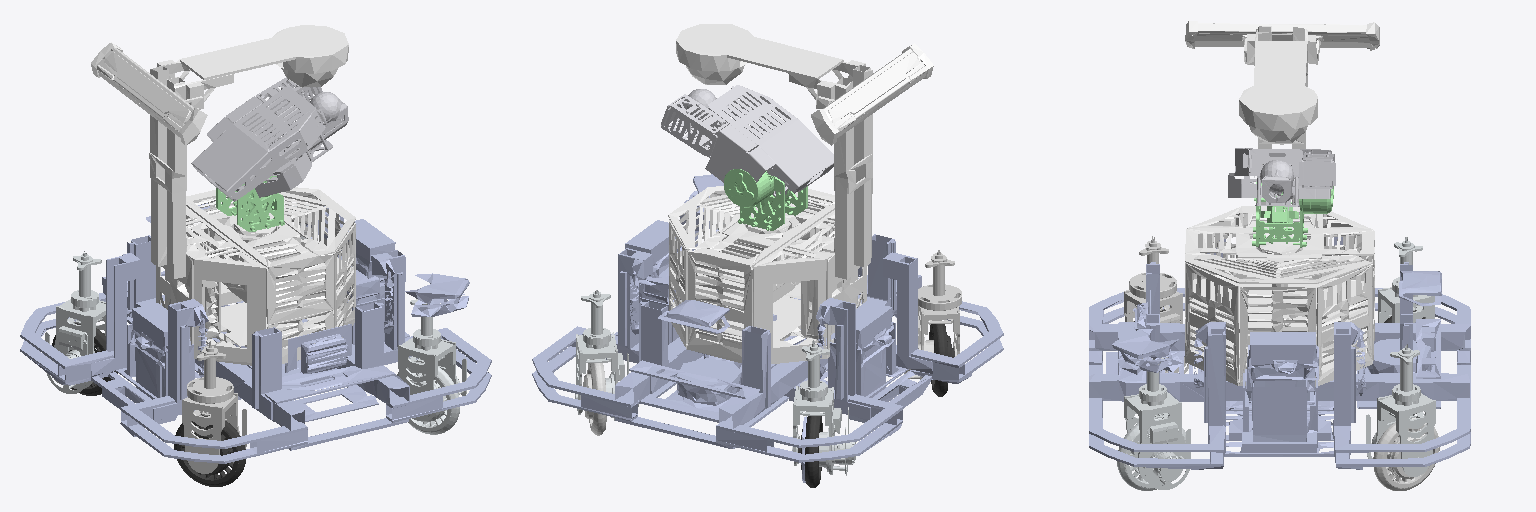
URDF robot description (robot):
<?xml version="1.0"?>
<robot name="robot">
  <link name="base_footprint">
    <inertial>
      <origin xyz="0.03075109 0.00556219 0.14059623" rpy="0 0 0"/>
      <mass value="7.45292673"/>
      <inertia ixx="0.13155106" ixy="0.00914621" ixz="-0.01048016" iyy="0.17594473" iyz="0.00575591" izz="0.26547165"/>
    </inertial>
    <visual>
      <origin xyz="0 0 0" rpy="0 0 0"/>
      <geometry><mesh filename="package://sentry_description/meshes/base_collision.stl"/></geometry>
      <material name="base_color"><color rgba="0.79215686 0.81960784 0.93333333 1"/></material>
    </visual>
    <collision>
      <origin xyz="0 0 0" rpy="0 0 0"/>
      <geometry><mesh filename="package://sentry_description/meshes/base_collision.stl"/></geometry>
    </collision>
  </link>
  <link name="link1_wheel1_drive">
    <inertial>
      <origin xyz="-0.00182111 -0.00089281 0" rpy="0 0 0"/>
      <mass value="0.27419236"/>
      <inertia ixx="0.00037552" ixy="0.00007465" ixz="0" iyy="0.00025985" iyz="0" izz="0.00022326"/>
    </inertial>
    <visual>
      <origin xyz="0 0 0" rpy="0 0 0"/>
      <geometry><mesh filename="package://sentry_description/meshes/link1_wheel1_drive_collision.stl"/></geometry>
      <material name="link1_wheel1_drive_color"><color rgba="0.29803922 0.29803922 0.29803922 1"/></material>
    </visual>
    <collision>
      <origin xyz="0 0 0" rpy="0 0 0"/>
      <geometry><mesh filename="package://sentry_description/meshes/link1_wheel1_drive_collision.stl"/></geometry>
    </collision>
  </link>
  <link name="link2_wheel1_steer">
    <inertial>
      <origin xyz="-0.01352273 -0.00661537 -0.1313528" rpy="0 0 0"/>
      <mass value="0.75988345"/>
      <inertia ixx="0.00180659" ixy="-0.00009999" ixz="-0.00027942" iyy="0.00196233" iyz="-0.00013641" izz="0.00054709"/>
    </inertial>
    <visual>
      <origin xyz="0 0 0" rpy="0 0 0"/>
      <geometry><mesh filename="package://sentry_description/meshes/link2_wheel1_steer_collision.stl"/></geometry>
      <material name="link2_wheel1_steer_color"><color rgba="0.89803922 0.91764706 0.92941176 1"/></material>
    </visual>
    <collision>
      <origin xyz="0 0 0" rpy="0 0 0"/>
      <geometry><mesh filename="package://sentry_description/meshes/link2_wheel1_steer_collision.stl"/></geometry>
    </collision>
  </link>
  <link name="link3_wheel2_drive">
    <inertial>
      <origin xyz="0.00133441 0.00094612 0" rpy="0 0 0"/>
      <mass value="0.27419236"/>
      <inertia ixx="0.00034893" ixy="0.00008911" ixz="0" iyy="0.00028643" iyz="0" izz="0.00022326"/>
    </inertial>
    <visual>
      <origin xyz="0 0 0" rpy="0 0 0"/>
      <geometry><mesh filename="package://sentry_description/meshes/link3_wheel2_drive_collision.stl"/></geometry>
      <material name="link3_wheel2_drive_color"><color rgba="0.89803922 0.89803922 0.89803922 1"/></material>
    </visual>
    <collision>
      <origin xyz="0 0 0" rpy="0 0 0"/>
      <geometry><mesh filename="package://sentry_description/meshes/link3_wheel2_drive_collision.stl"/></geometry>
    </collision>
  </link>
  <link name="link4_wheel2_steer">
    <inertial>
      <origin xyz="-0.01228793 -0.0086967 -0.1313528" rpy="0 0 0"/>
      <mass value="0.75988345"/>
      <inertia ixx="0.00184221" ixy="-0.00011948" ixz="-0.00025396" iyy="0.00192671" iyz="-0.00017942" izz="0.00054709"/>
    </inertial>
    <visual>
      <origin xyz="0 0 0" rpy="0 0 0"/>
      <geometry><mesh filename="package://sentry_description/meshes/link4_wheel2_steer_collision.stl"/></geometry>
      <material name="link4_wheel2_steer_color"><color rgba="0.89803922 0.91764706 0.92941176 1"/></material>
    </visual>
    <collision>
      <origin xyz="0 0 0" rpy="0 0 0"/>
      <geometry><mesh filename="package://sentry_description/meshes/link4_wheel2_steer_collision.stl"/></geometry>
    </collision>
  </link>
  <link name="link5_wheel3_drive">
    <inertial>
      <origin xyz="-0.00383859 -0.0018819 0" rpy="0 0 0"/>
      <mass value="0.27419236"/>
      <inertia ixx="0.00037552" ixy="0.00007465" ixz="0" iyy="0.00025985" iyz="0" izz="0.00022326"/>
    </inertial>
    <visual>
      <origin xyz="0 0 0" rpy="0 0 0"/>
      <geometry><mesh filename="package://sentry_description/meshes/link5_wheel3_drive_collision.stl"/></geometry>
      <material name="link5_wheel3_drive_color"><color rgba="0.89803922 0.91764706 0.92941176 1"/></material>
    </visual>
    <collision>
      <origin xyz="0 0 0" rpy="0 0 0"/>
      <geometry><mesh filename="package://sentry_description/meshes/link5_wheel3_drive_collision.stl"/></geometry>
    </collision>
  </link>
  <link name="link6_wheel3_steer">
    <inertial>
      <origin xyz="0.01352273 0.00661537 -0.1313528" rpy="0 0 0"/>
      <mass value="0.75988345"/>
      <inertia ixx="0.00180659" ixy="-0.00009999" ixz="0.00027942" iyy="0.00196233" iyz="0.00013641" izz="0.00054709"/>
    </inertial>
    <visual>
      <origin xyz="0 0 0" rpy="0 0 0"/>
      <geometry><mesh filename="package://sentry_description/meshes/link6_wheel3_steer_collision.stl"/></geometry>
      <material name="link6_wheel3_steer_color"><color rgba="0.89803922 0.91764706 0.92941176 1"/></material>
    </visual>
    <collision>
      <origin xyz="0 0 0" rpy="0 0 0"/>
      <geometry><mesh filename="package://sentry_description/meshes/link6_wheel3_steer_collision.stl"/></geometry>
    </collision>
  </link>
  <link name="link7_wheel4_drive">
    <inertial>
      <origin xyz="0.00165452 0.00117308 0" rpy="0 0 0"/>
      <mass value="0.27419236"/>
      <inertia ixx="0.00034893" ixy="0.00008911" ixz="0" iyy="0.00028643" iyz="0" izz="0.00022326"/>
    </inertial>
    <visual>
      <origin xyz="0 0 0" rpy="0 0 0"/>
      <geometry><mesh filename="package://sentry_description/meshes/link7_wheel4_drive_collision.stl"/></geometry>
      <material name="link7_wheel4_drive_color"><color rgba="0.29803922 0.29803922 0.29803922 1"/></material>
    </visual>
    <collision>
      <origin xyz="0 0 0" rpy="0 0 0"/>
      <geometry><mesh filename="package://sentry_description/meshes/link7_wheel4_drive_collision.stl"/></geometry>
    </collision>
  </link>
  <link name="link8_wheel4_steer">
    <inertial>
      <origin xyz="0.0102248 0.00684194 -0.11872898" rpy="0 0 0"/>
      <mass value="0.93432451"/>
      <inertia ixx="0.00257831" ixy="-0.00013962" ixz="0.00036" iyy="0.00266613" iyz="0.00027468" izz="0.00072136"/>
    </inertial>
    <visual>
      <origin xyz="0 0 0" rpy="0 0 0"/>
      <geometry><mesh filename="package://sentry_description/meshes/link8_wheel4_steer_collision.stl"/></geometry>
      <material name="link8_wheel4_steer_color"><color rgba="0.89803922 0.89803922 0.89803922 1"/></material>
    </visual>
    <collision>
      <origin xyz="0 0 0" rpy="0 0 0"/>
      <geometry><mesh filename="package://sentry_description/meshes/link8_wheel4_steer_collision.stl"/></geometry>
    </collision>
  </link>
  <link name="gimbal_yaw">
    <inertial>
      <origin xyz="-0.02412562 0.00053064 0.16576855" rpy="0 0 0"/>
      <mass value="4.59760545"/>
      <inertia ixx="0.12848086" ixy="0.00042571" ixz="0.0067269" iyy="0.14567939" iyz="0.00008758" izz="0.05853719"/>
    </inertial>
    <visual>
      <origin xyz="0 0 0" rpy="0 0 0"/>
      <geometry><mesh filename="package://sentry_description/meshes/gimbal_yaw_collision.stl"/></geometry>
      <material name="gimbal_yaw_color"><color rgba="1 1 1 1"/></material>
    </visual>
    <collision>
      <origin xyz="0 0 0" rpy="0 0 0"/>
      <geometry><mesh filename="package://sentry_description/meshes/gimbal_yaw_collision.stl"/></geometry>
    </collision>
  </link>
  <link name="link10_pitch">
    <inertial>
      <origin xyz="0.05119059 -0.03275115 0.04633006" rpy="0 0 0"/>
      <mass value="0.95164865"/>
      <inertia ixx="0.00235325" ixy="-0.00057263" ixz="-0.00121079" iyy="0.00359417" iyz="-0.0004005" izz="0.00407243"/>
    </inertial>
    <visual>
      <origin xyz="0 0 0" rpy="0 0 0"/>
      <geometry><mesh filename="package://sentry_description/meshes/link10_pitch_collision.stl"/></geometry>
      <material name="link10_pitch_color"><color rgba="0.86666667 0.86666667 0.89019608 1"/></material>
    </visual>
    <collision>
      <origin xyz="0 0 0" rpy="0 0 0"/>
      <geometry><mesh filename="package://sentry_description/meshes/link10_pitch_collision.stl"/></geometry>
    </collision>
  </link>
  <link name="link11_small_yaw">
    <inertial>
      <origin xyz="-0.00134769 0.03442742 0.07170746" rpy="0 0 0"/>
      <mass value="0.82666442"/>
      <inertia ixx="0.00143178" ixy="-0.00009362" ixz="-0.00002071" iyy="0.00084588" iyz="-0.00033164" izz="0.00110349"/>
    </inertial>
    <visual>
      <origin xyz="0 0 0" rpy="0 0 0"/>
      <geometry><mesh filename="package://sentry_description/meshes/link11_small_yaw_collision.stl"/></geometry>
      <material name="link11_small_yaw_color"><color rgba="0.75294118 1 0.75294118 1"/></material>
    </visual>
    <collision>
      <origin xyz="0 0 0" rpy="0 0 0"/>
      <geometry><mesh filename="package://sentry_description/meshes/link11_small_yaw_collision.stl"/></geometry>
    </collision>
  </link>
  <joint name="joint1_big_yaw" type="continuous">
    <parent link="base_footprint"/>
    <child link="gimbal_yaw"/>
    <origin xyz="0 0.00008186 0.145" rpy="0 0 0"/>
    <axis xyz="0 0 1"/>
  </joint>
  <joint name="joint2_small_yaw" type="revolute">
    <parent link="gimbal_yaw"/>
    <child link="link11_small_yaw"/>
    <origin xyz="0 0 0.1695" rpy="0 0 0"/>
    <axis xyz="0 0 -1"/>
    <limit lower="-2" upper="2" effort="10" velocity="3"/>
  </joint>
  <joint name="joint3_pitch" type="revolute">
    <parent link="link11_small_yaw"/>
    <child link="link10_pitch"/>
    <origin xyz="0.00159424 0.04657272 0.0835" rpy="0 0 0"/>
    <axis xyz="0.03421123 0.99941462 0"/>
    <limit lower="0" upper="0.75" effort="10" velocity="3"/>
  </joint>
  <joint name="joint4_wheel1_drive" type="continuous">
    <parent link="link2_wheel1_steer"/>
    <child link="link1_wheel1_drive"/>
    <origin xyz="0.00447479 0.0021938 -0.1629" rpy="0 0 0"/>
    <axis xyz="0.89789862 0.44020231 0"/>
  </joint>
  <joint name="joint5_wheel1_steer" type="continuous">
    <parent link="base_footprint"/>
    <child link="link2_wheel1_steer"/>
    <origin xyz="-0.186 0.18608186 0.2209" rpy="0 0 0"/>
    <axis xyz="0 0 -1"/>
  </joint>
  <joint name="joint6_wheel2_drive" type="continuous">
    <parent link="link4_wheel2_steer"/>
    <child link="link3_wheel2_drive"/>
    <origin xyz="0.00107652 0.00076327 -0.1629" rpy="0 0 0"/>
    <axis xyz="-0.81576096 -0.57838919 0"/>
  </joint>
  <joint name="joint7_wheel2_steer" type="continuous">
    <parent link="base_footprint"/>
    <child link="link4_wheel2_steer"/>
    <origin xyz="0.186 0.18608186 0.2209" rpy="0 0 0"/>
    <axis xyz="0 0 -1"/>
  </joint>
  <joint name="joint8_wheel3_drive" type="continuous">
    <parent link="link6_wheel3_steer"/>
    <child link="link5_wheel3_drive"/>
    <origin xyz="0.00118491 0.00058091 -0.1629" rpy="0 0 0"/>
    <axis xyz="-0.89789862 -0.44020231 0"/>
  </joint>
  <joint name="joint9_wheel3_steer" type="continuous">
    <parent link="base_footprint"/>
    <child link="link6_wheel3_steer"/>
    <origin xyz="0.186 -0.18591814 0.2209" rpy="0 0 0"/>
    <axis xyz="0 0 -1"/>
  </joint>
  <joint name="joint10_wheel4_drive" type="continuous">
    <parent link="link8_wheel4_steer"/>
    <child link="link7_wheel4_drive"/>
    <origin xyz="-0.00406544 -0.00288247 -0.1629" rpy="0 0 0"/>
    <axis xyz="-0.81576096 -0.57838919 0"/>
  </joint>
  <joint name="joint11_wheel4_steer" type="continuous">
    <parent link="base_footprint"/>
    <child link="link8_wheel4_steer"/>
    <origin xyz="-0.186 -0.18591814 0.2209" rpy="0 0 0"/>
    <axis xyz="0 0 -1"/>
  </joint>
  <link name="ref_ref1"/>
  <joint name="ref_ref1_frame" type="fixed">
    <parent link="base_footprint"/>
    <child link="ref_ref1"/>
    <origin xyz="0 0 0" rpy="0 0 0"/>
  </joint>
  <link name="ref_ref2"/>
  <joint name="ref_ref2_frame" type="fixed">
    <parent link="gimbal_yaw"/>
    <child link="ref_ref2"/>
    <origin xyz="0 -0.00000186 0" rpy="0 0 0"/>
  </joint>
  <link name="ref_ref3"/>
  <joint name="ref_ref3_frame" type="fixed">
    <parent link="gimbal_yaw"/>
    <child link="ref_ref3"/>
    <origin xyz="-0.05945002 -0.06230464 0.016" rpy="0 0 0"/>
  </joint>
  <link name="front_mid360"/>
  <joint name="front_mid360_frame" type="fixed">
    <parent link="gimbal_yaw"/>
    <child link="front_mid360"/>
    <origin xyz="0.09141 -0.00149186 0.41508" rpy="0 0 0"/>
  </joint>
  <link name="ref_ref5"/>
  <joint name="ref_ref5_frame" type="fixed">
    <parent link="link10_pitch"/>
    <child link="ref_ref5"/>
    <origin xyz="0.00107576 -0.04704688 0" rpy="1.57079633 0 3.14159265"/>
  </joint>
  <link name="ref_ref6"/>
  <joint name="ref_ref6_frame" type="fixed">
    <parent link="link10_pitch"/>
    <child link="ref_ref6"/>
    <origin xyz="0.11934576 0.00880542 0.08684" rpy="1.22173048 0 1.57079633"/>
  </joint>
  <link name="ref_ref7"/>
  <joint name="ref_ref7_frame" type="fixed">
    <parent link="link11_small_yaw"/>
    <child link="ref_ref7"/>
    <origin xyz="0 -0.00000186 0" rpy="0 0 0"/>
  </joint>
</robot>

--- Facts derived from the render (not from the file) ---
The picture shows the robot from 3 angles, left to right: view 1: azimuth 30°, elevation 25°; view 2: azimuth 150°, elevation 25°; view 3: azimuth 270°, elevation 25°; orthographic projection.
Model robot with 19 links and 18 joints (2 revolute, 9 continuous, 7 fixed), rooted at base_footprint, posed all joints at 0.
Links seen in each view (by area): view 1: base_footprint, gimbal_yaw, link10_pitch, link8_wheel4_steer, link2_wheel1_steer, link6_wheel3_steer, link11_small_yaw, link7_wheel4_drive, link5_wheel3_drive; view 2: base_footprint, gimbal_yaw, link10_pitch, link11_small_yaw, link2_wheel1_steer, link8_wheel4_steer, link4_wheel2_steer, link3_wheel2_drive, link1_wheel1_drive, link7_wheel4_drive; view 3: base_footprint, gimbal_yaw, link10_pitch, link6_wheel3_steer, link4_wheel2_steer, link11_small_yaw, link8_wheel4_steer, link2_wheel1_steer, link3_wheel2_drive, link5_wheel3_drive.
Link boxes in pixels (x1=…): base_footprint: x1=20, y1=203, x2=491, y2=463; gimbal_yaw: x1=91, y1=25, x2=355, y2=365; link10_pitch: x1=191, y1=77, x2=348, y2=201; link8_wheel4_steer: x1=182, y1=341, x2=246, y2=473; link2_wheel1_steer: x1=45, y1=251, x2=105, y2=393; link6_wheel3_steer: x1=398, y1=299, x2=466, y2=420; link11_small_yaw: x1=216, y1=176, x2=284, y2=231; link7_wheel4_drive: x1=174, y1=414, x2=245, y2=486; link5_wheel3_drive: x1=397, y1=362, x2=459, y2=434; base_footprint: x1=532, y1=174, x2=1003, y2=482; gimbal_yaw: x1=668, y1=24, x2=933, y2=363; link10_pitch: x1=661, y1=85, x2=833, y2=196; link11_small_yaw: x1=724, y1=169, x2=807, y2=230; link2_wheel1_steer: x1=792, y1=340, x2=855, y2=475; link8_wheel4_steer: x1=904, y1=250, x2=961, y2=379; link4_wheel2_steer: x1=575, y1=290, x2=638, y2=420; link3_wheel2_drive: x1=583, y1=359, x2=606, y2=435; link1_wheel1_drive: x1=798, y1=416, x2=822, y2=487; link7_wheel4_drive: x1=929, y1=324, x2=954, y2=396; base_footprint: x1=1089, y1=237, x2=1470, y2=469; gimbal_yaw: x1=1185, y1=20, x2=1379, y2=386; link10_pitch: x1=1228, y1=148, x2=1335, y2=210; link6_wheel3_steer: x1=1124, y1=357, x2=1190, y2=489; link4_wheel2_steer: x1=1366, y1=344, x2=1435, y2=476; link11_small_yaw: x1=1252, y1=182, x2=1333, y2=247; link8_wheel4_steer: x1=1124, y1=236, x2=1188, y2=373; link2_wheel1_steer: x1=1378, y1=237, x2=1434, y2=322; link3_wheel2_drive: x1=1373, y1=417, x2=1439, y2=490; link5_wheel3_drive: x1=1117, y1=417, x2=1185, y2=490.
Bounding box of the posed robot: 0.5613 × 0.5623 × 0.5925 m (x, y, z).
12 mesh visuals loaded from 12 distinct referenced files (12 binary STL).
